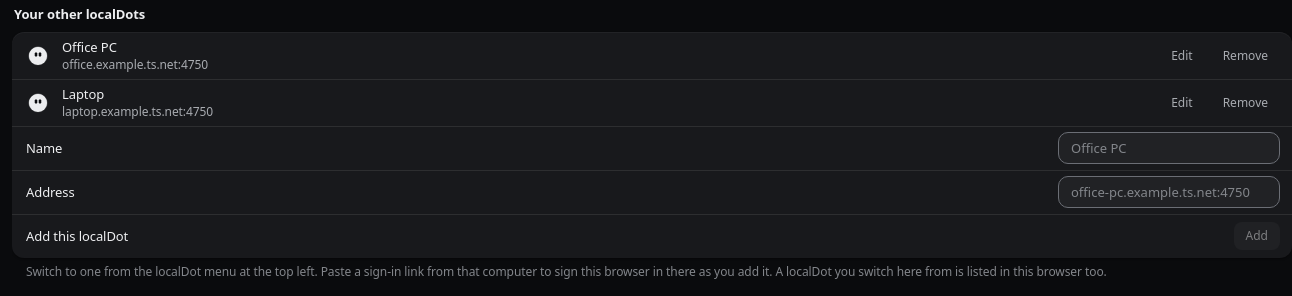
Test: cancels with Cancel or Escape, and Escape goes no further than the edit
Click the button with aria-label "Edit Laptop" at point(1182, 102), box [1159,88,1205,116]
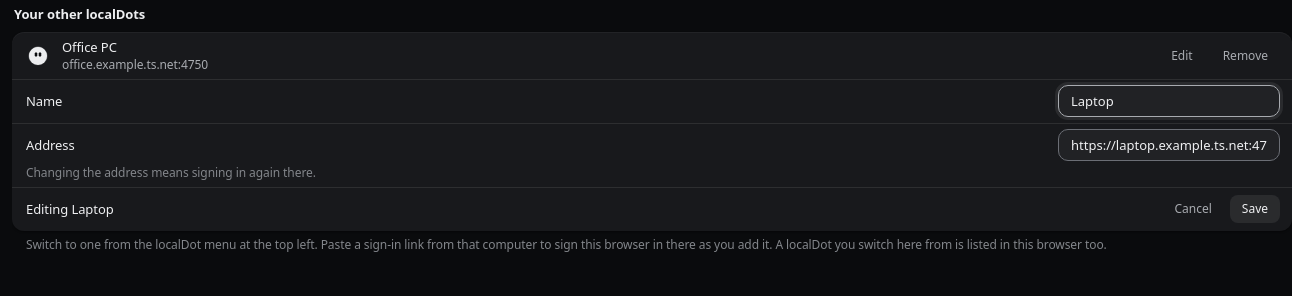
Replace the text in the field labelled "Name" with "Something else" at point(1169, 101), box [1071,86,1267,116]
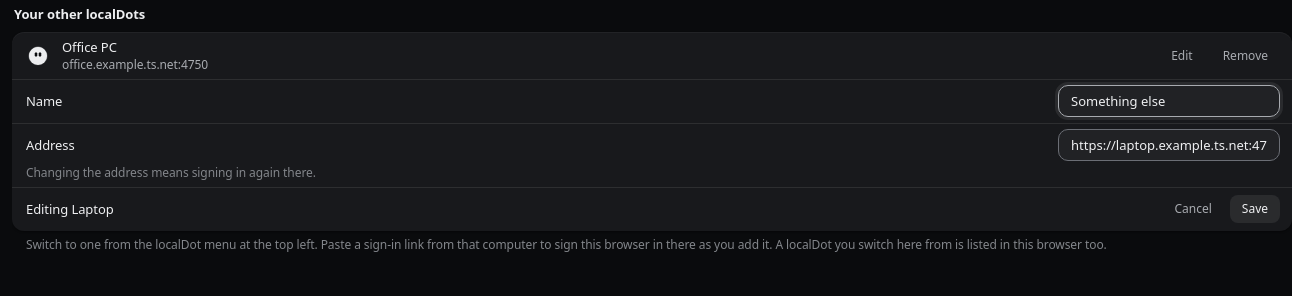
Click the button "Cancel" at point(1193, 209), box [1162,195,1224,223]
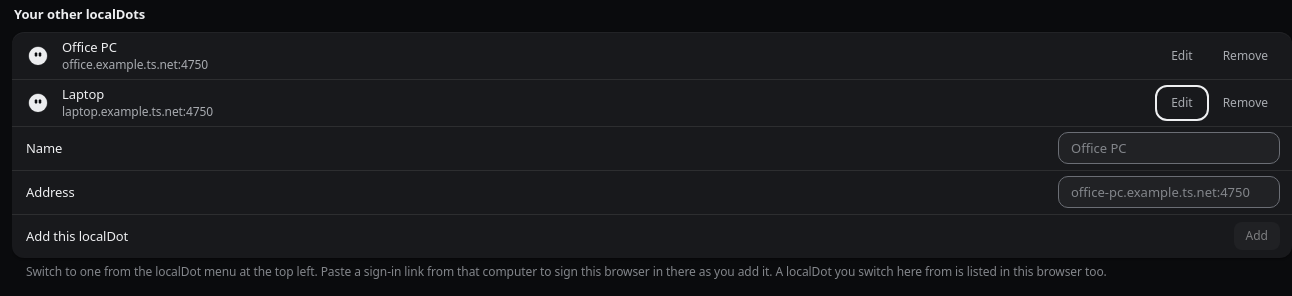
Check: the text "Laptop" is shown, box [62,85,104,103]
Click the button with aria-label "Edit Laptop" at point(1182, 102), box [1159,88,1205,116]
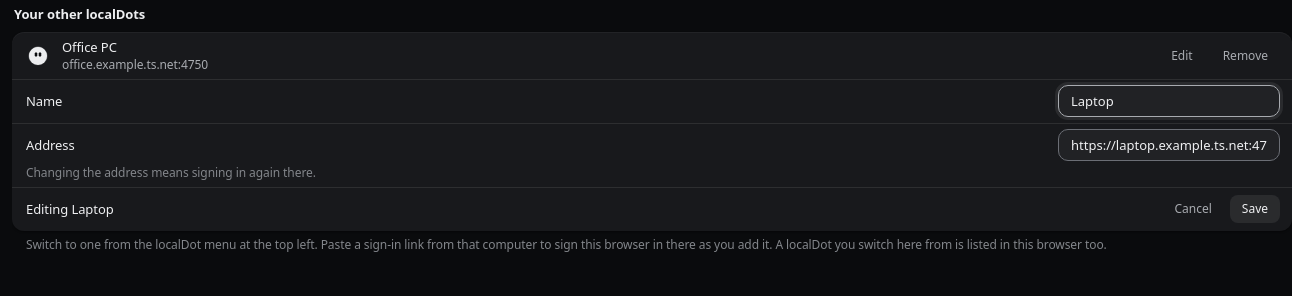
Replace the text in the field labelled "Name" with "Something else" at point(1169, 101), box [1071,86,1267,116]
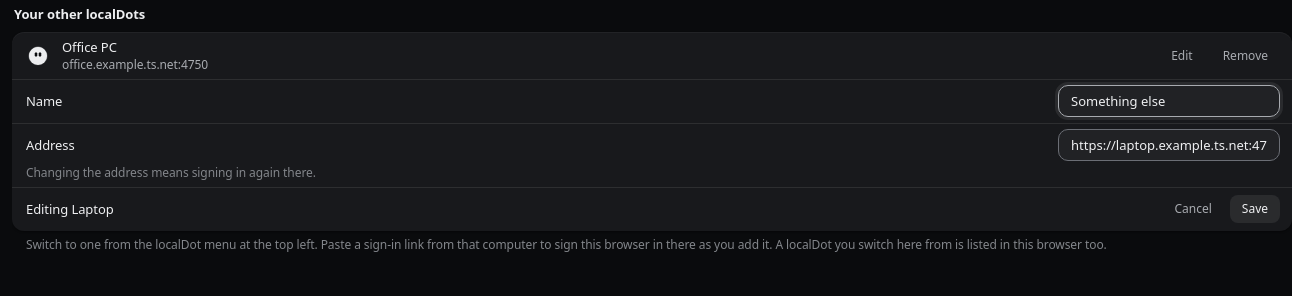
Press Escape in the field labelled "Name", box [1071,86,1267,116]
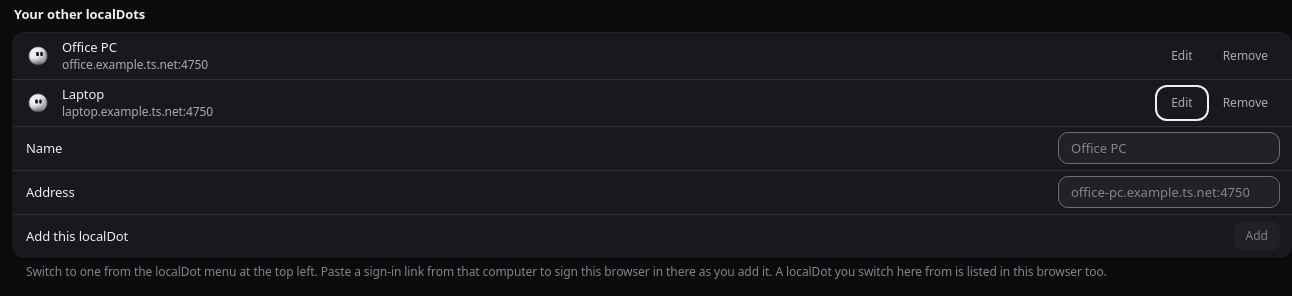
Check: the button "Save" is gone
